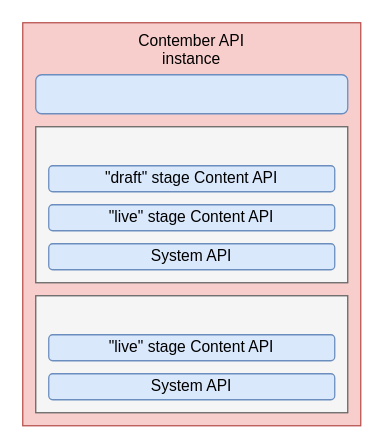
This 384x448 diagram has some shape labels left out. The shapes that lost their labels are listed below. From the top down, each one's box as (x1, y1, x2, y2) in pixels, then its label:
(34, 73, 348, 114): Tenant API
(34, 125, 348, 283): Project "A"
(34, 294, 348, 413): Project "B"
